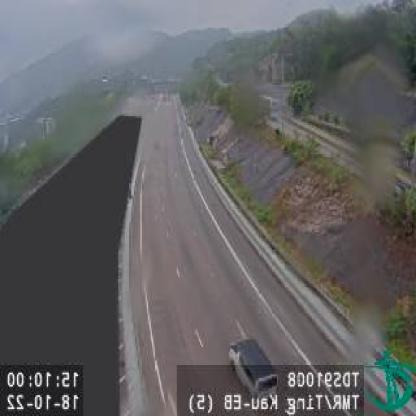Car: (228, 338, 280, 405)
